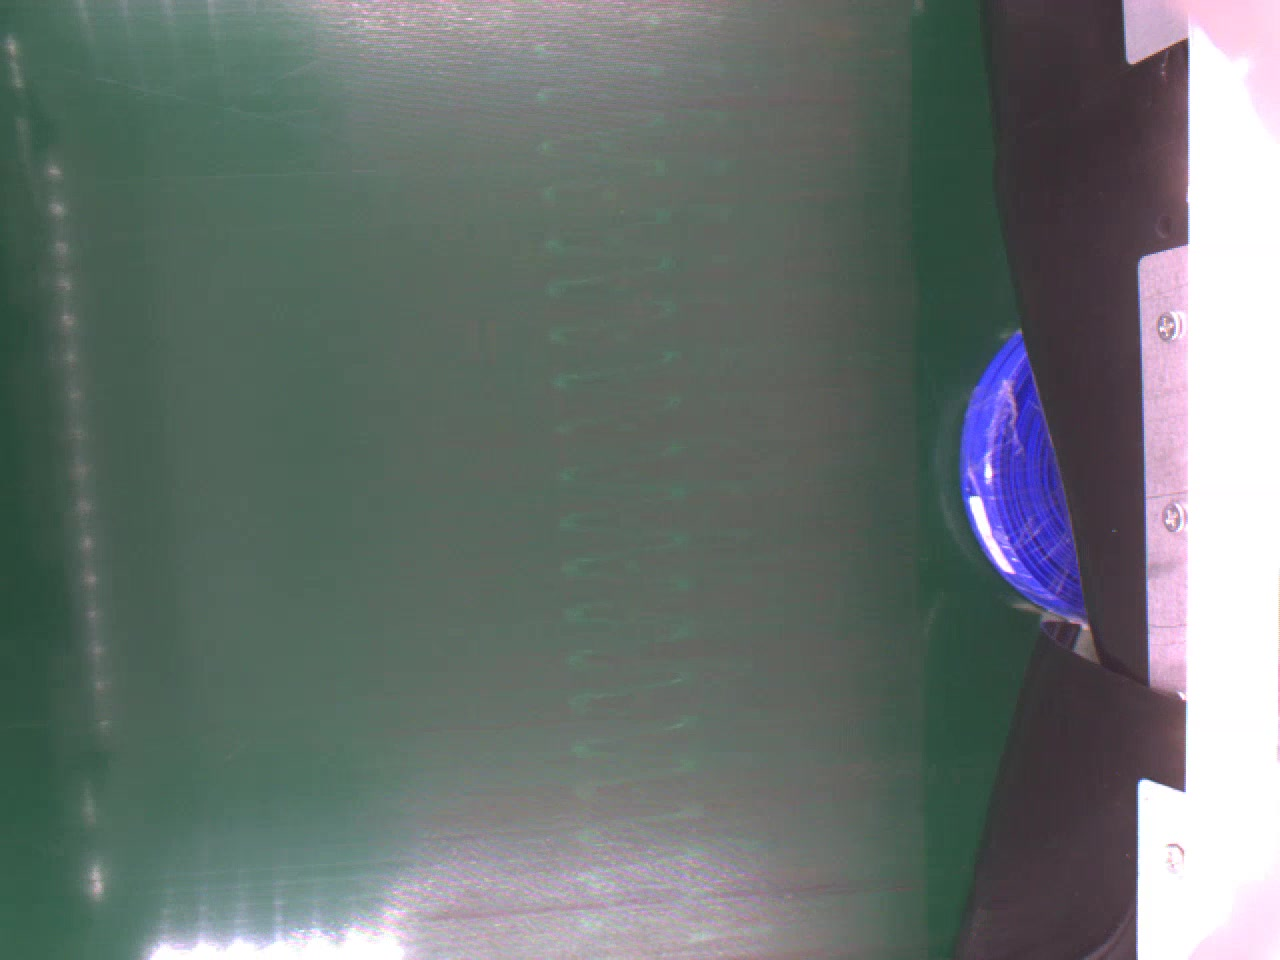blue: (955, 322, 1085, 624)
